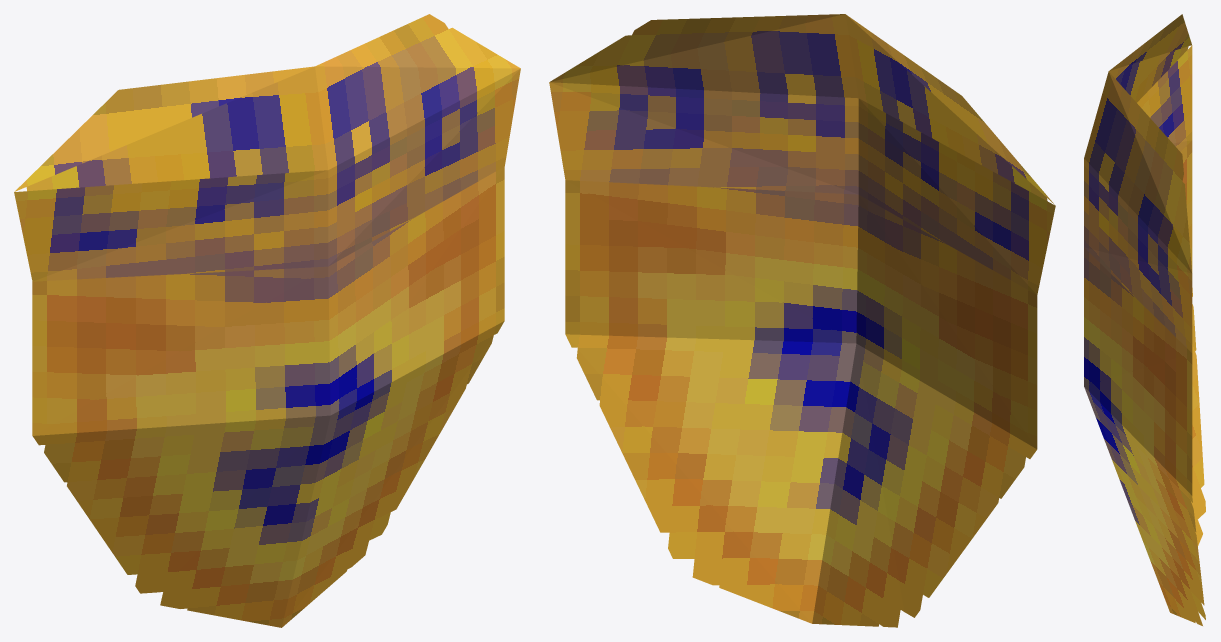
3 views of the same model, side by side, from view 1: azimuth 30°, elevation 25°; view 2: azimuth 150°, elevation 25°; view 3: azimuth 270°, elevation 25° (orthographic). The views are drawn at different scales.
Parts seen in each view (by area): view 1: Conft_obj_026; view 2: Conft_obj_026; view 3: Conft_obj_026.
Boxes of the visible parts, x1,y1,x2,y2 form: Conft_obj_026: (14,14,520,627); Conft_obj_026: (549,14,1055,627); Conft_obj_026: (1084,14,1205,625).
Bounding box in the file's own units: 0.4297 × 0.4746 × 0.0977.
1 material, 1 textured.
